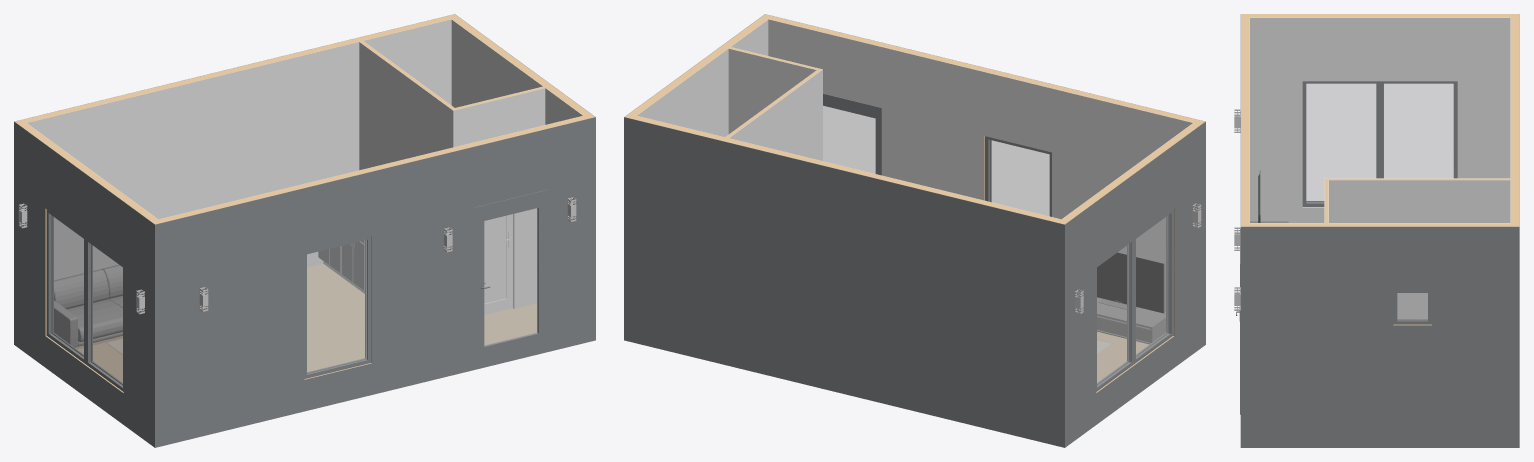
File: Violeta.zeleznova_(3,6x6,5m)_R00.fbx
The picture shows the model from 3 angles, left to right: view 1: azimuth 30°, elevation 25°; view 2: azimuth 150°, elevation 25°; view 3: azimuth 270°, elevation 25°; orthographic projection.
Visible parts, largest first — view 1: IfcWall/Part:2319977, IfcWall/Part:2319982, IfcWall/Part:2319974, IfcDoor/Simple_vitree_-_03:1000x2100:2303655, IfcWindow/Aluprof_MB-86-SI_E_Alu_Window-1sash-FIX_ENG_R-000., IfcWall/Part:2319968, IfcSlab/Part:2319985, IfcWall/Part:2319971, IfcWindow/Aluprof_MB-86-SI_E_Alu_Window-1sash-FIX_ENG_R-000, IfcWall/Part:2319979, IfcWindow/Aluprof_MB-86-SI_E_Alu_Window-1sash-FIX_ENG_R-0004, IfcFurnishingElement/Bolia - North Seater Sofa:2 1/2 Seater: (+6 smaller); view 2: IfcWall/Part:2319983, IfcWall/Part:2319976, IfcWall/Part:2319974, IfcWindow/Aluprof_MB-86-SI_E_Alu_Window-1sash-FIX_ENG_R-0004, IfcWall/Part:2319979, IfcWindow/Aluprof_MB-86-SI_E_Alu_Window-1sash-FIX_ENG_R-000, IfcWall/Part:2319968, IfcWindow/Aluprof_MB-86-SI_E_Alu_Window-1sash-FIX_ENG_R-000., IfcDoor/Simple_vitree_-_03:1000x2100:2303655, IfcWall/Part:2319970, IfcBuildingElementProxy/TV Sony1:TV Sony 2:2319310, IfcWall/Part:2319978 (+5 smaller); view 3: IfcWall/Part:2319980, IfcWall/Part:2319973, IfcWindow/Aluprof_MB-86-SI_E_Alu_Window-1sash-FIX_ENG_R-0004 (×2), IfcWall/Part:2319967, IfcWindow/Aluprof_MB-86-SI_E_Alu_Window-1sash-FIX_ENG_R-000, IfcWall/Part:2319984, IfcWall/Part:2319978, IfcWall/Part:2319981, IfcWall/Part:2319975, IfcWall/Part:2319969, IfcWall/Part:2319983.
Part boxes in pixels (left/top/right/bottom): IfcWall/Part:2319977: left=155, top=117, right=595, bottom=447; IfcWall/Part:2319982: left=27, top=19, right=451, bottom=280; IfcWall/Part:2319974: left=14, top=121, right=154, bottom=447; IfcDoor/Simple_vitree_-_03:1000x2100:2303655: left=474, top=189, right=548, bottom=359; IfcWindow/Aluprof_MB-86-SI_E_Alu_Window-1sash-FIX_ENG_R-000.: left=304, top=236, right=371, bottom=378; IfcWall/Part:2319968: left=359, top=42, right=452, bottom=170; IfcSlab/Part:2319985: left=77, top=264, right=536, bottom=382; IfcWall/Part:2319971: left=453, top=88, right=545, bottom=307; IfcWindow/Aluprof_MB-86-SI_E_Alu_Window-1sash-FIX_ENG_R-000: left=46, top=209, right=86, bottom=364; IfcWall/Part:2319979: left=451, top=19, right=582, bottom=124; IfcWindow/Aluprof_MB-86-SI_E_Alu_Window-1sash-FIX_ENG_R-0004: left=85, top=238, right=123, bottom=391; IfcFurnishingElement/Bolia - North Seater Sofa:2 1/2 Seater:: left=54, top=265, right=122, bottom=349; IfcWall/Part:2319983: left=624, top=117, right=1064, bottom=447; IfcWall/Part:2319976: left=768, top=19, right=1192, bottom=311; IfcWall/Part:2319974: left=1065, top=121, right=1205, bottom=447; IfcWindow/Aluprof_MB-86-SI_E_Alu_Window-1sash-FIX_ENG_R-0004: left=1133, top=209, right=1173, bottom=363; IfcWall/Part:2319979: left=637, top=19, right=768, bottom=136; IfcWindow/Aluprof_MB-86-SI_E_Alu_Window-1sash-FIX_ENG_R-000: left=1096, top=238, right=1134, bottom=391; IfcWall/Part:2319968: left=729, top=69, right=822, bottom=160; IfcWindow/Aluprof_MB-86-SI_E_Alu_Window-1sash-FIX_ENG_R-000.: left=985, top=136, right=1051, bottom=216; IfcDoor/Simple_vitree_-_03:1000x2100:2303655: left=823, top=93, right=881, bottom=175; IfcWall/Part:2319970: left=728, top=48, right=816, bottom=134; IfcBuildingElementProxy/TV Sony1:TV Sony 2:2319310: left=1097, top=252, right=1164, bottom=313; IfcWall/Part:2319978: left=768, top=16, right=1204, bottom=200; IfcWall/Part:2319980: left=1240, top=226, right=1519, bottom=447; IfcWall/Part:2319973: left=1250, top=17, right=1510, bottom=222; IfcWindow/Aluprof_MB-86-SI_E_Alu_Window-1sash-FIX_ENG_R-0004 (×2): left=1302, top=81, right=1431, bottom=324; IfcWall/Part:2319967: left=1329, top=180, right=1510, bottom=318; IfcWindow/Aluprof_MB-86-SI_E_Alu_Window-1sash-FIX_ENG_R-000: left=1379, top=81, right=1457, bottom=178; IfcWall/Part:2319984: left=1510, top=14, right=1519, bottom=226; IfcWall/Part:2319978: left=1241, top=14, right=1249, bottom=223; IfcWall/Part:2319981: left=1241, top=223, right=1510, bottom=325; IfcWall/Part:2319975: left=1249, top=14, right=1510, bottom=207; IfcWall/Part:2319969: left=1328, top=178, right=1510, bottom=180; IfcWall/Part:2319983: left=1519, top=14, right=1519, bottom=447.
Size of the model in its own units: 658 by 315 by 368.
